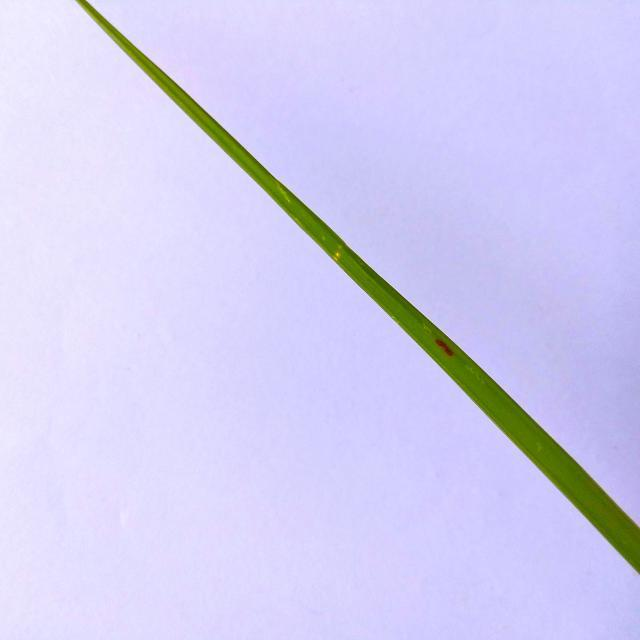brownspots: (430, 332, 458, 364)
